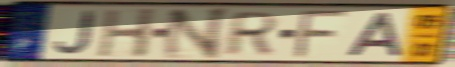A: (342, 11, 406, 59)
F: (290, 9, 354, 60)
H: (95, 7, 158, 59)
J: (53, 9, 96, 56)
N: (159, 6, 232, 61)
R: (221, 10, 282, 57)
